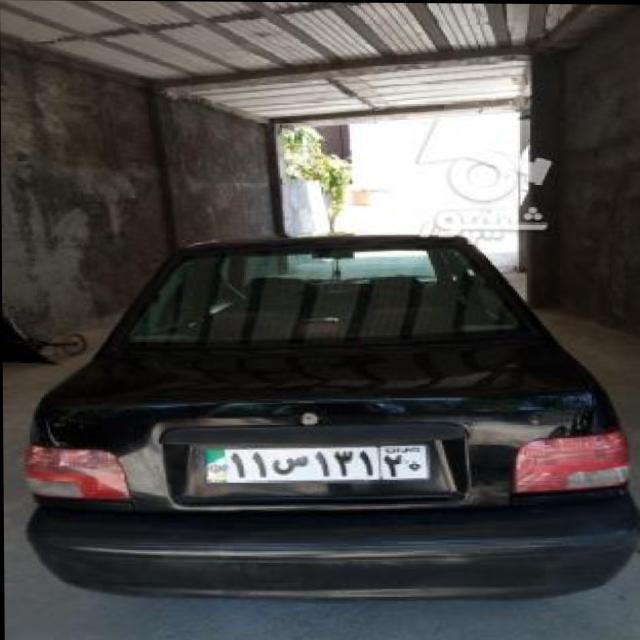licence: (191, 438, 427, 485)
